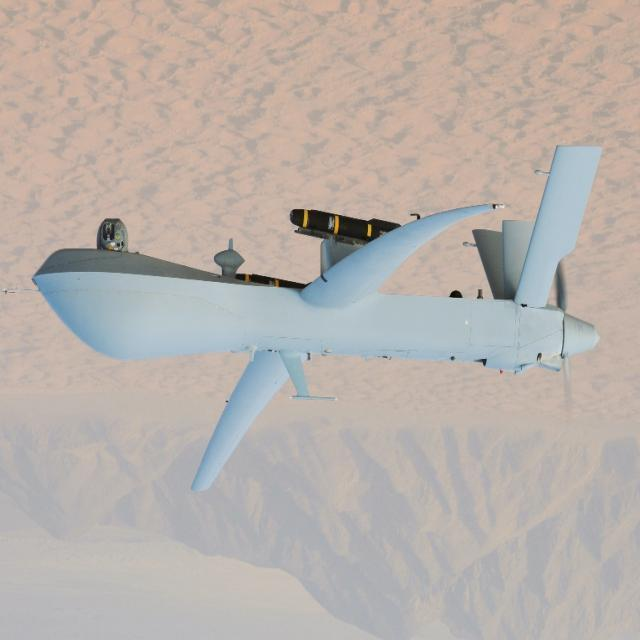missile: (284, 205, 387, 240)
